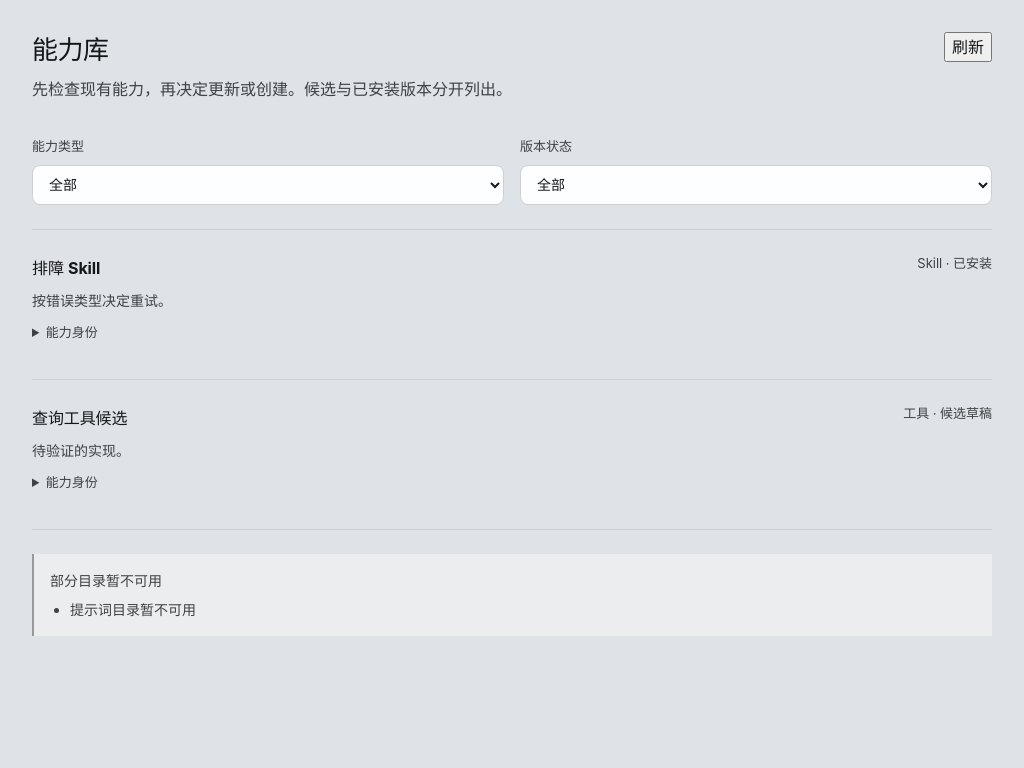
Trace App libraries › keeps installed capabilities and unverified candidates distinct while reporting unavailable catalogs
expect the text "Skill · 已安装" is shown: met, box [917,255,992,271]
expect the text "工具 · 候选草稿" is shown: met, box [903,405,992,421]
Select "候选草稿" in the dropdown labelled "版本状态". click: (756, 185)
box: [520,165,992,205]
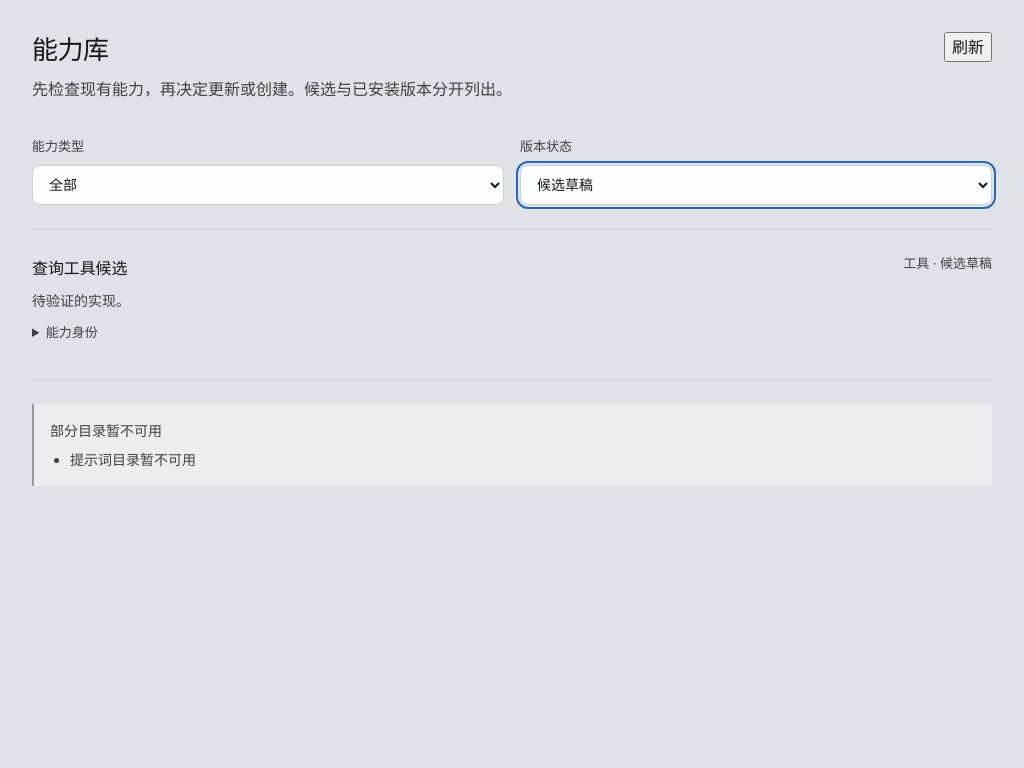
expect the heading "查询工具候选" is shown: met, box [32,258,127,278]
expect the heading "排障 Skill" is gone: met
